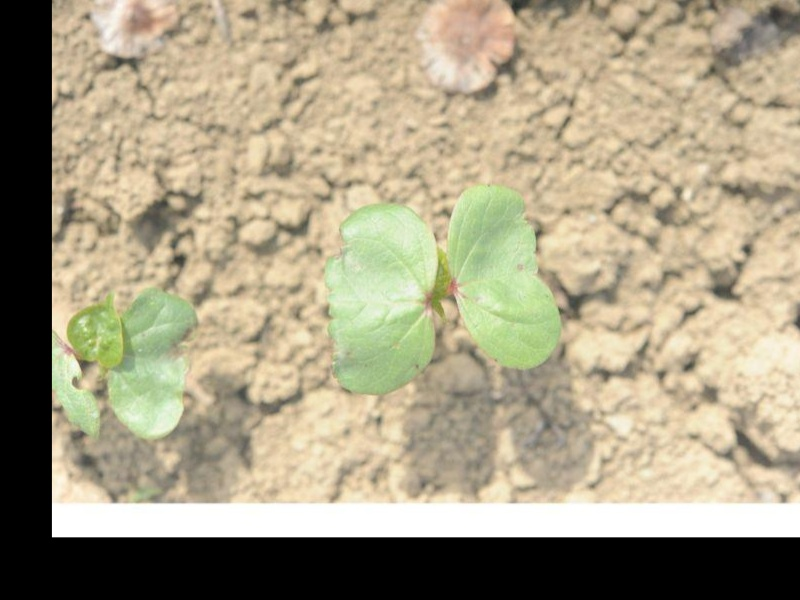cotton: (323, 180, 561, 397), (53, 285, 199, 445)
